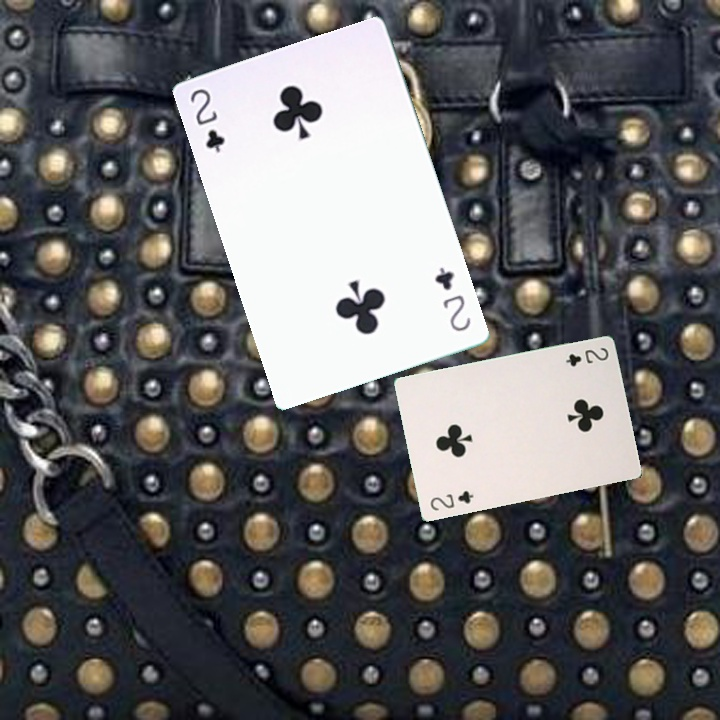2c: (430, 263, 473, 334), (186, 84, 228, 156), (426, 487, 476, 513), (561, 343, 611, 369)
